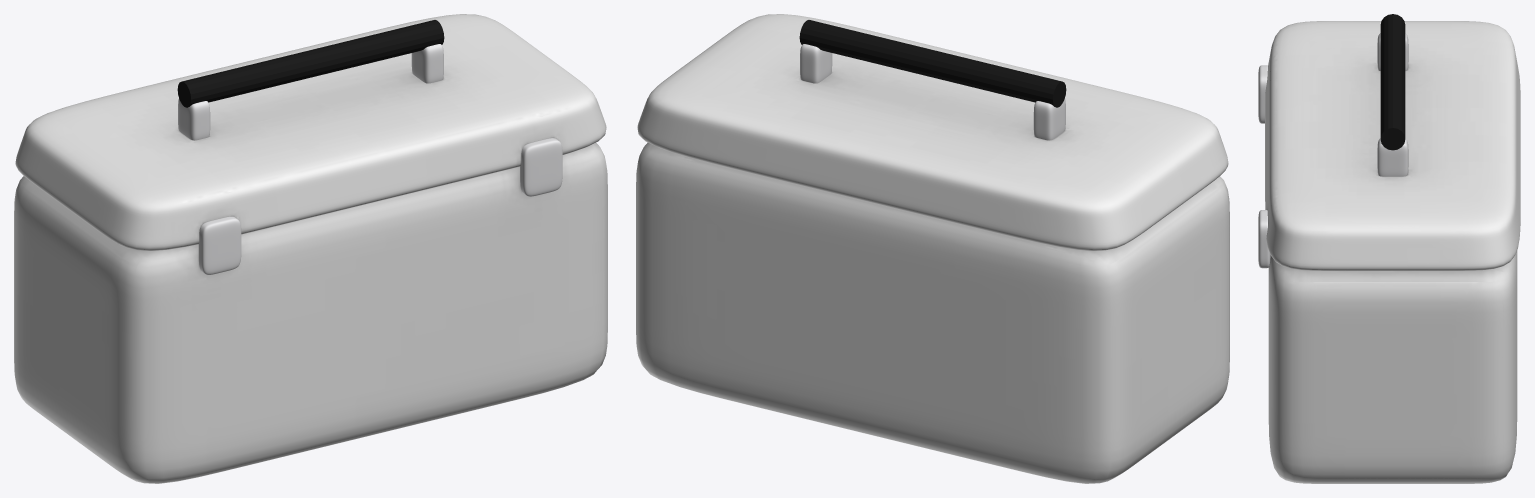
The model's file is black.glb.
3 views of the same model, side by side, from view 1: azimuth 30°, elevation 25°; view 2: azimuth 150°, elevation 25°; view 3: azimuth 270°, elevation 25° (orthographic). The views are drawn at different scales.
Parts seen in each view (by area): view 1: paint_primary, grip, chrome_tool; view 2: paint_primary, grip, chrome_tool; view 3: paint_primary, grip, chrome_tool.
Part boxes in pixels (x1,y1,x2,y2): paint_primary: (14,14,607,483); grip: (177,20,444,107); chrome_tool: (178,44,562,274); paint_primary: (636,14,1229,483); grip: (799,20,1066,107); chrome_tool: (800,44,1065,140); paint_primary: (1265,21,1520,483); grip: (1380,14,1405,150); chrome_tool: (1258,33,1408,268).
Bounding box in the file's own units: 0.503 × 0.337 × 0.2533.
Materials: 3 (1 with a texture image).
